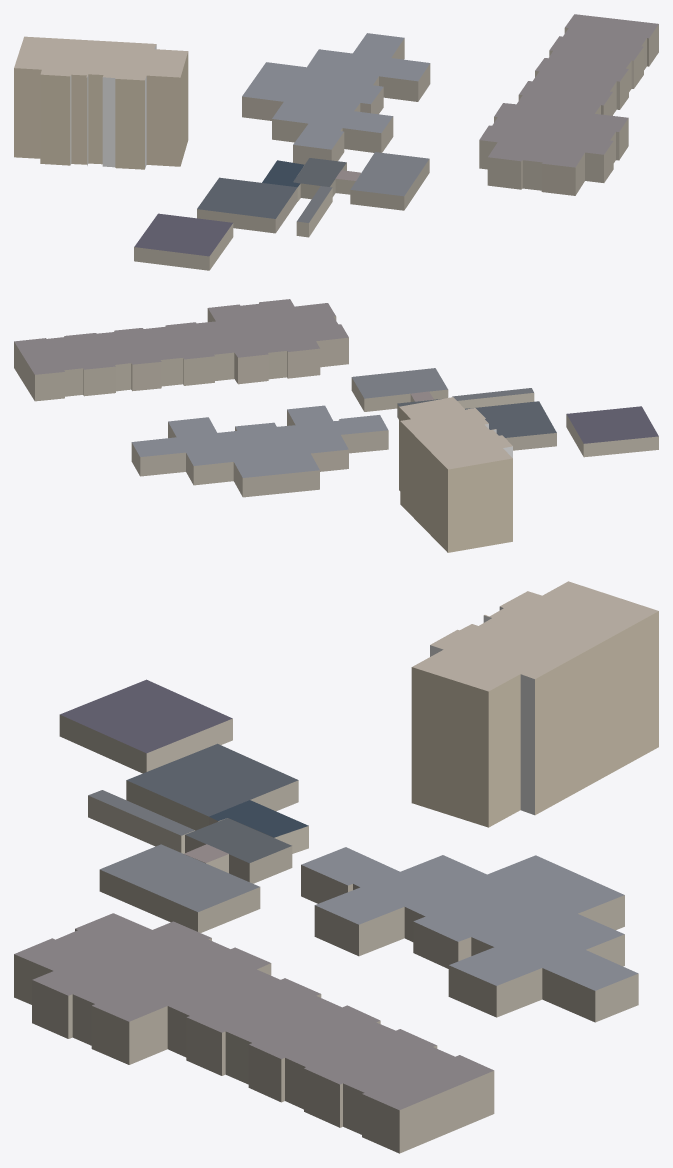
The picture shows the model from 3 angles, top to bottom: view 1: azimuth 30°, elevation 25°; view 2: azimuth 150°, elevation 25°; view 3: azimuth 270°, elevation 25°; orthographic projection. The views are drawn at different scales.
Parts seen in each view (by area): view 1: tuile; view 2: tuile; view 3: tuile.
Boxes of the visible parts, left/top/right/bottom form: tuile: left=14, top=14, right=658, bottom=270; tuile: left=14, top=299, right=658, bottom=552; tuile: left=14, top=581, right=658, bottom=1153.
Size of the model in its own units: 148 by 21.91 by 89.01.
